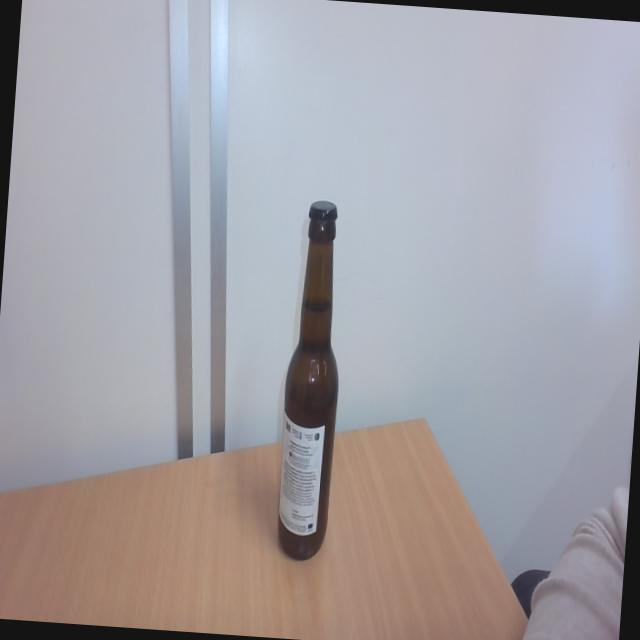Bottle: (273, 223, 351, 565)
Cap: (306, 195, 338, 224)
Label: (275, 416, 325, 537)
